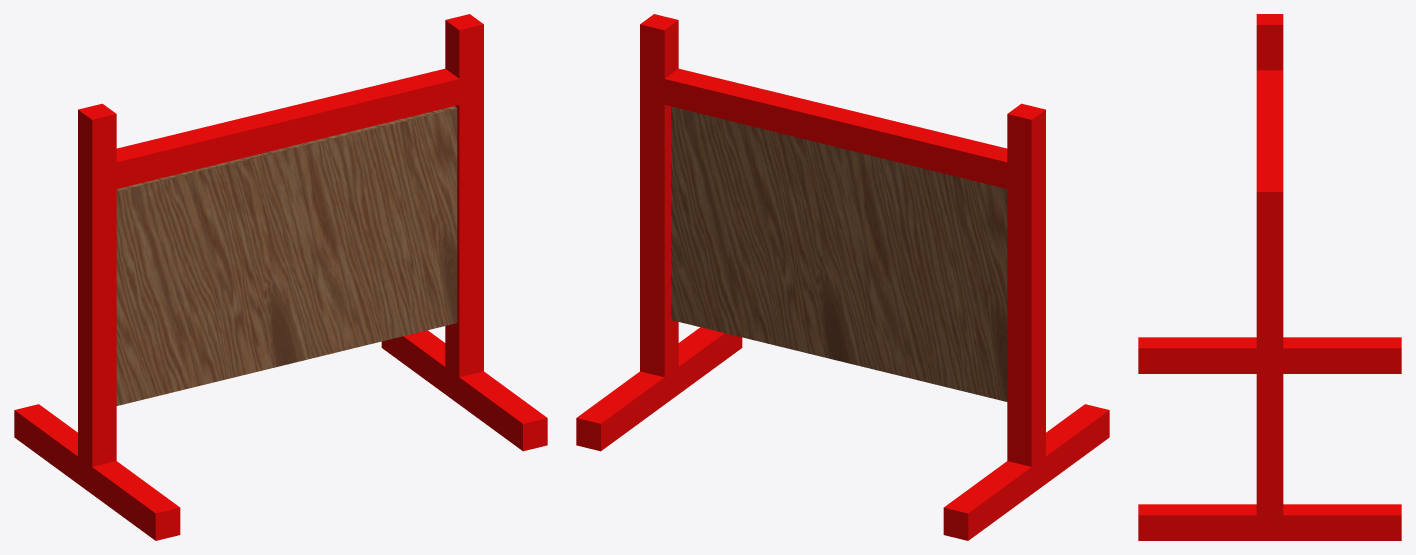
File: hurdle.glb
The picture shows the model from 3 angles, left to right: view 1: azimuth 30°, elevation 25°; view 2: azimuth 150°, elevation 25°; view 3: azimuth 270°, elevation 25°; orthographic projection. The views are drawn at different scales.
Visible parts, largest first — view 1: hurdle; view 2: hurdle; view 3: hurdle.
Part boxes in pixels (box(x1,y1,x2,y2)): hurdle: box(14, 14, 547, 540); hurdle: box(576, 14, 1109, 540); hurdle: box(1138, 14, 1401, 540).
Size of the model in its own units: 1.6 by 1.46 by 1.
Materials: 1 (1 with a texture image).
